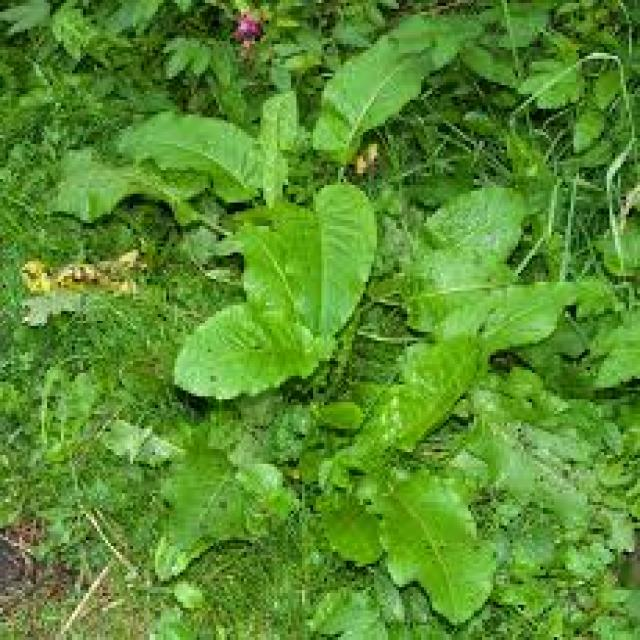organic waste: (89, 3, 548, 379), (152, 244, 588, 625)
